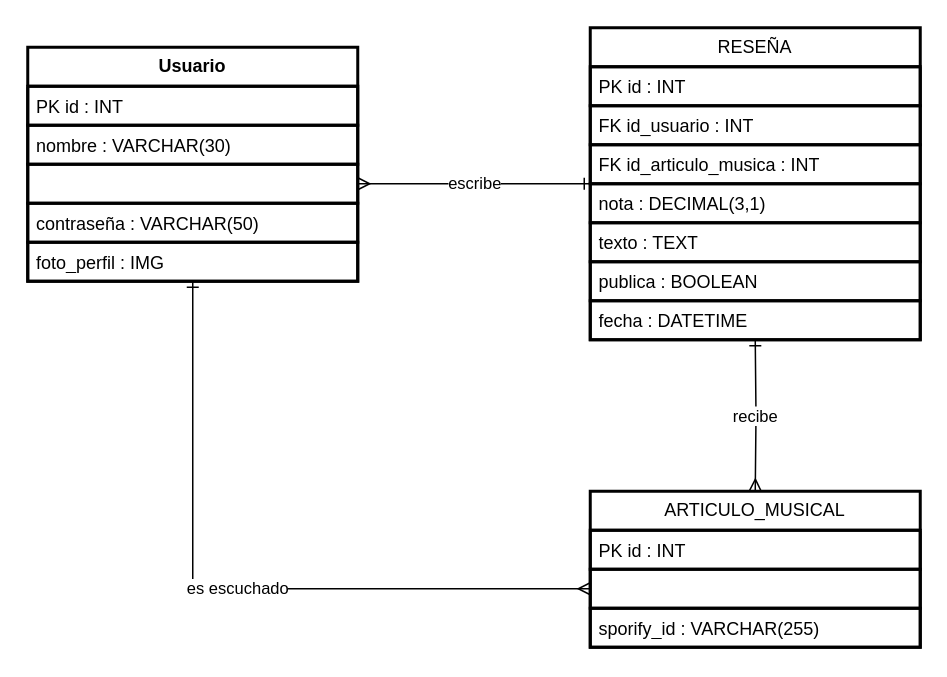
The diagram is 947 pixels wide and 677 high, and some of its shapes have lost their labels. The shapes that lost their labels are listed below. From the top down, each one's centre as x and y in pixels, then its label:
At pixel 192 183: "correo : VARCHAR(255)".
At pixel 754 588: "nombre : VARCHAR(50)".
